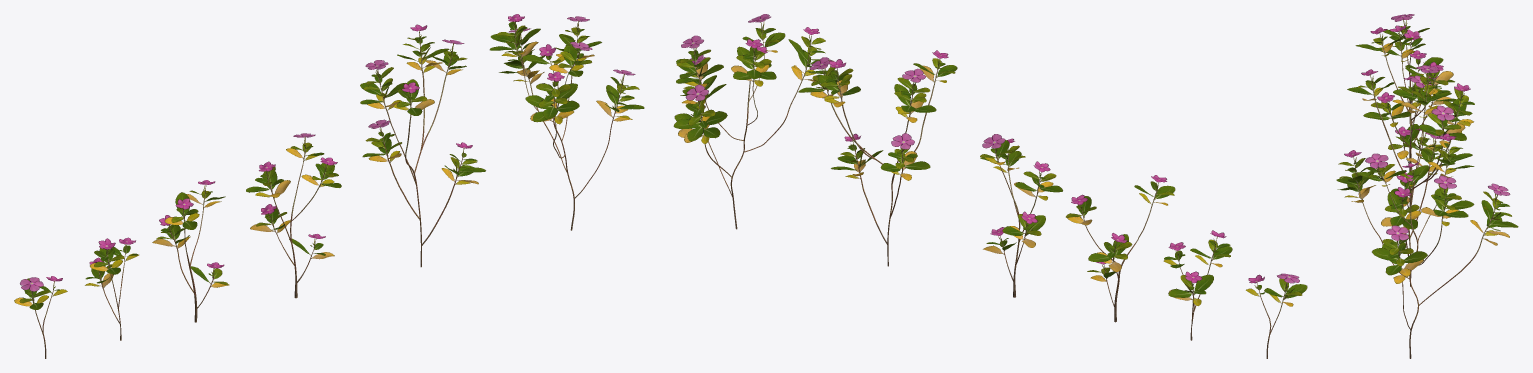
Rendered from periwinkle_plant_4k.gltf.
3 renders of one model, left to right at view 1: azimuth 30°, elevation 25°; view 2: azimuth 150°, elevation 25°; view 3: azimuth 270°, elevation 25°, orthographic. The views are drawn at different scales.
Parts seen in each view (by area): view 1: periwinkle_plant_01_LOD0, periwinkle_plant_02_LOD0, periwinkle_plant_03_LOD0, periwinkle_plant_04_LOD0, periwinkle_plant_05_LOD0, periwinkle_plant_06_LOD0; view 2: periwinkle_plant_01_LOD0, periwinkle_plant_02_LOD0, periwinkle_plant_03_LOD0, periwinkle_plant_04_LOD0, periwinkle_plant_05_LOD0, periwinkle_plant_06_LOD0; view 3: periwinkle_plant_01_LOD0, periwinkle_plant_02_LOD0, periwinkle_plant_03_LOD0, periwinkle_plant_04_LOD0, periwinkle_plant_05_LOD0, periwinkle_plant_06_LOD0.
Part boxes in pixels (<box>): periwinkle_plant_01_LOD0: <box>489,14,644,230</box>; periwinkle_plant_02_LOD0: <box>360,24,485,267</box>; periwinkle_plant_03_LOD0: <box>246,133,341,298</box>; periwinkle_plant_04_LOD0: <box>152,180,229,322</box>; periwinkle_plant_05_LOD0: <box>85,237,138,340</box>; periwinkle_plant_06_LOD0: <box>14,276,67,358</box>; periwinkle_plant_01_LOD0: <box>673,14,833,229</box>; periwinkle_plant_02_LOD0: <box>798,50,957,266</box>; periwinkle_plant_03_LOD0: <box>980,134,1062,297</box>; periwinkle_plant_04_LOD0: <box>1066,175,1175,322</box>; periwinkle_plant_05_LOD0: <box>1163,230,1232,340</box>; periwinkle_plant_06_LOD0: <box>1246,273,1307,358</box>; periwinkle_plant_01_LOD0: <box>1336,133,1518,358</box>; periwinkle_plant_02_LOD0: <box>1347,65,1474,286</box>; periwinkle_plant_03_LOD0: <box>1363,75,1440,207</box>; periwinkle_plant_04_LOD0: <box>1355,27,1455,171</box>; periwinkle_plant_05_LOD0: <box>1377,25,1454,123</box>; periwinkle_plant_06_LOD0: <box>1383,14,1429,103</box>.
Size of the model in its own units: 1.24 by 0.4107 by 0.3207.
1 material, 1 textured.
